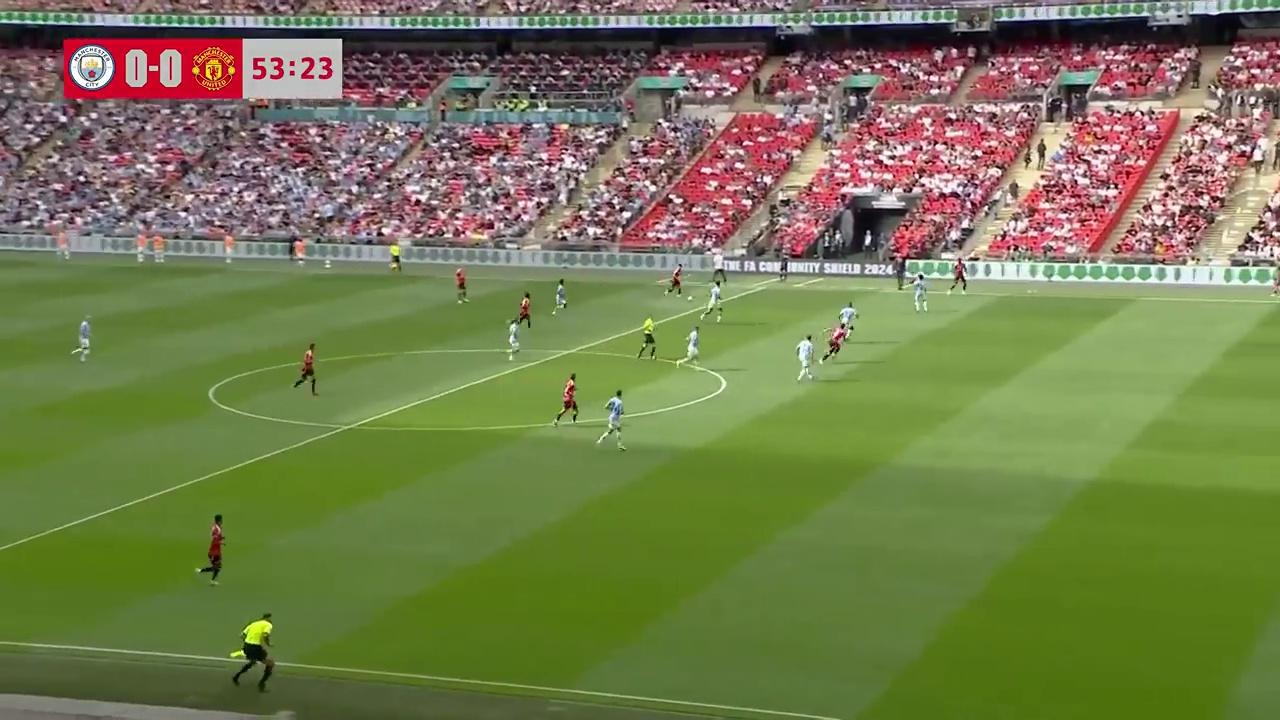ball: (687, 295, 693, 302)
player: (193, 514, 225, 585), (596, 389, 626, 451), (551, 372, 579, 427), (292, 342, 318, 395), (675, 325, 700, 368), (795, 334, 815, 382), (701, 279, 723, 322), (71, 316, 91, 362), (820, 322, 843, 362), (837, 300, 858, 338), (913, 274, 929, 312), (506, 317, 520, 359), (666, 264, 684, 296), (454, 264, 468, 304), (552, 278, 567, 314), (518, 291, 531, 328)
referee: (231, 610, 274, 692), (636, 315, 658, 360), (388, 241, 403, 274)
